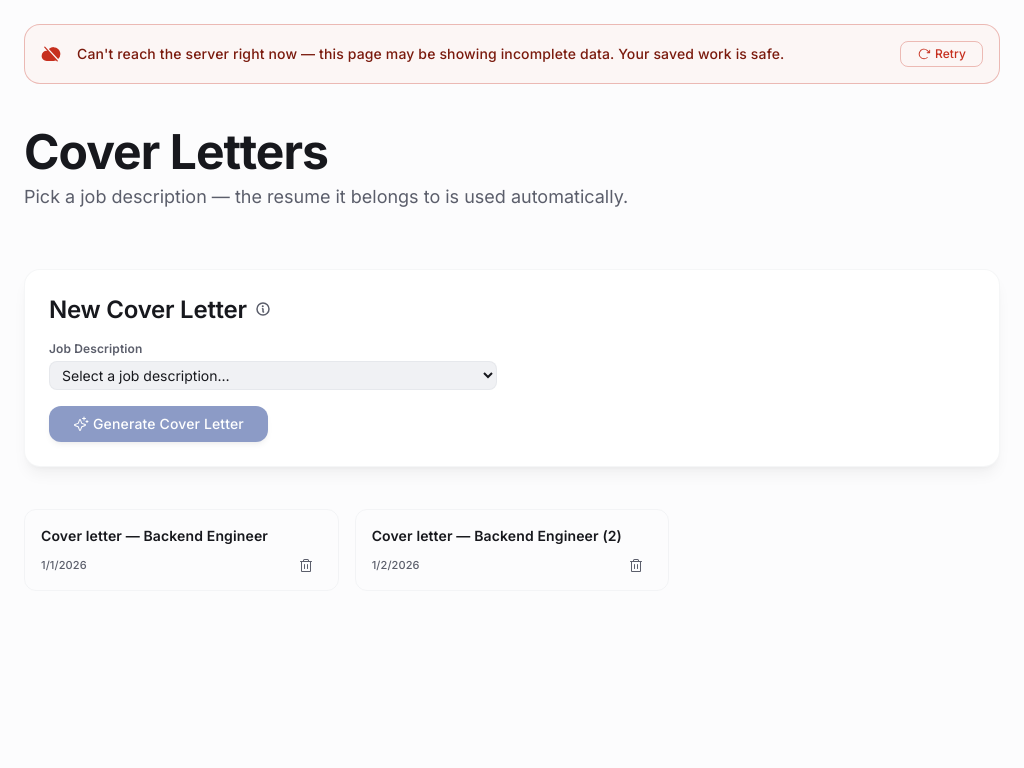
CoverLettersPage › names each letter, and deletes one only after a confirm
Expected: the text "Cover letter — Backend Engineer (2)" is shown, [372, 526, 652, 546]
What coordinates should you click on to do the following:
click the button named "Delete letter" in the row of "1/2/2026"
I would click on:
 (636, 566)
Its box is [620, 550, 652, 582].
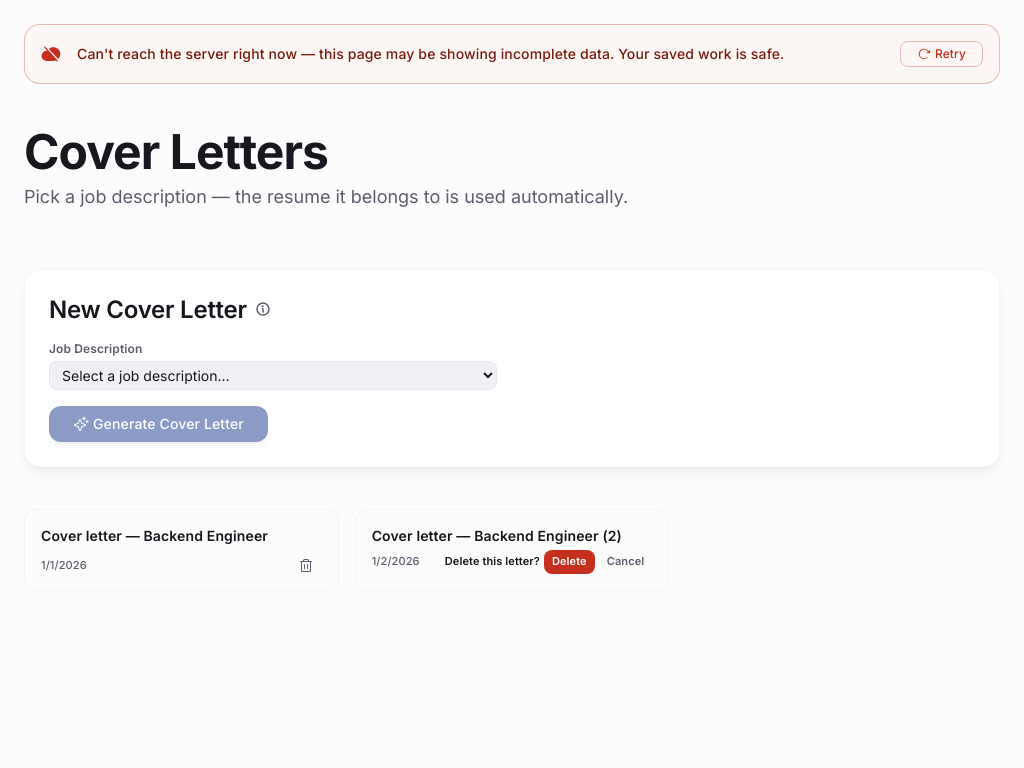
What coordinates should you click on to do the following:
click the button "Delete"
I would click on:
 (569, 562)
Its box is [544, 550, 595, 574].
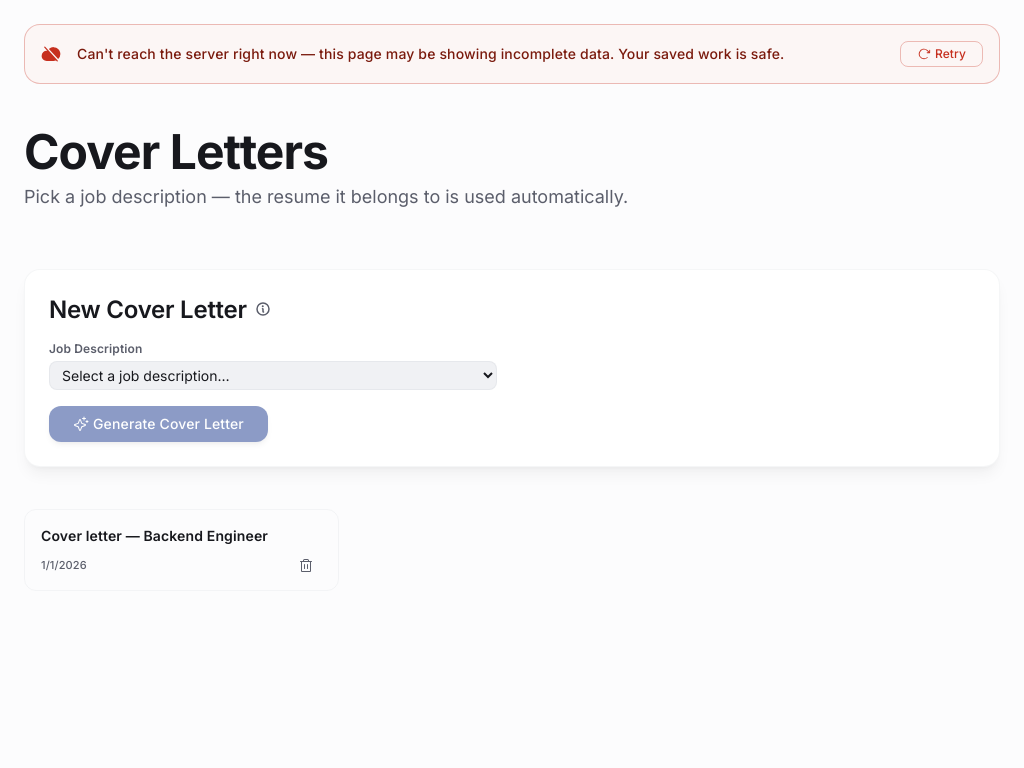
Expected: the text "Cover letter — Backend Engineer" is shown, [41, 527, 268, 544]
Expected: the button "Cover letter — Backend Engineer (2)" is gone
